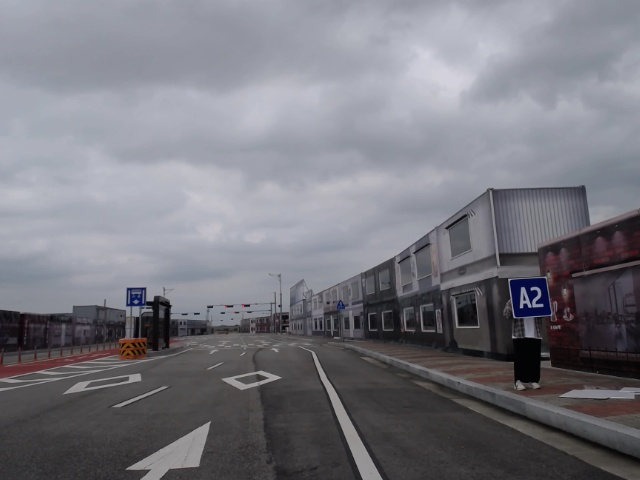delivery_a2: (509, 277, 552, 319)
